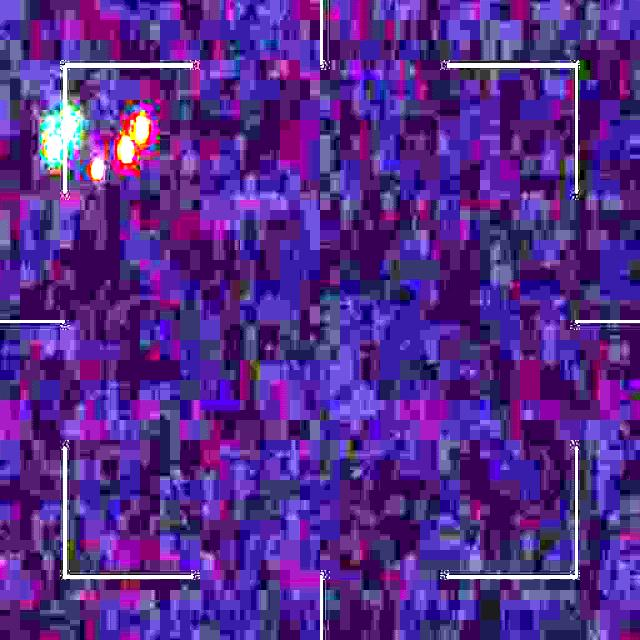bird: (50, 114, 154, 184)
